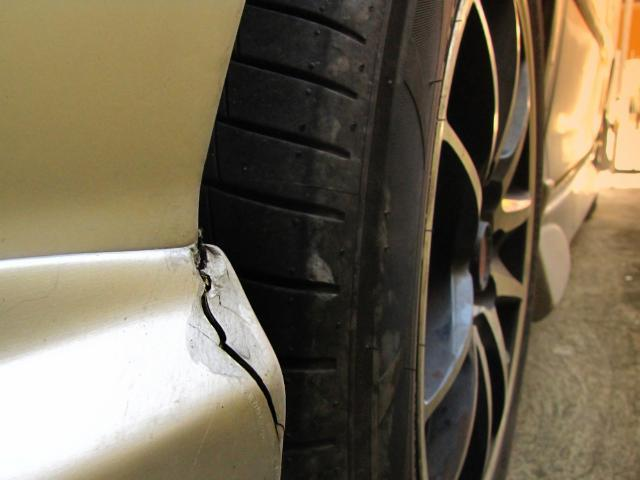crack: (196, 245, 285, 445)
